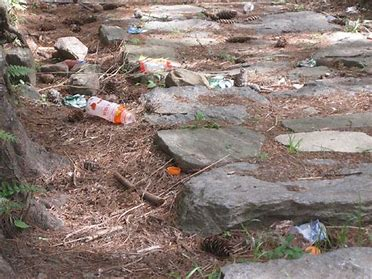garbage: (60, 87, 145, 130), (281, 214, 343, 258), (130, 53, 188, 73), (202, 73, 238, 94), (121, 22, 153, 40), (166, 161, 187, 177)
